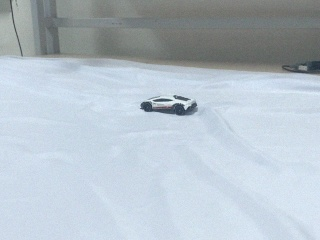toy_car: (140, 95, 197, 115)
